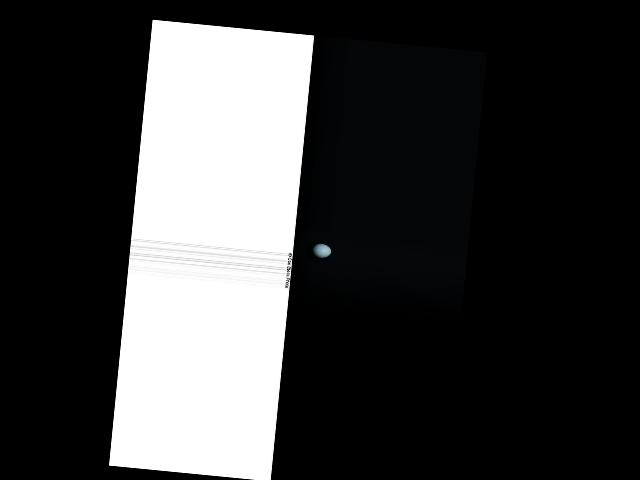egg: (311, 242, 331, 259)
